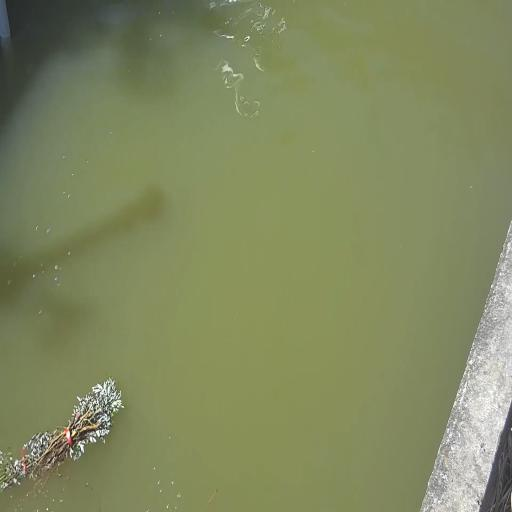twig: (0, 377, 123, 491)
